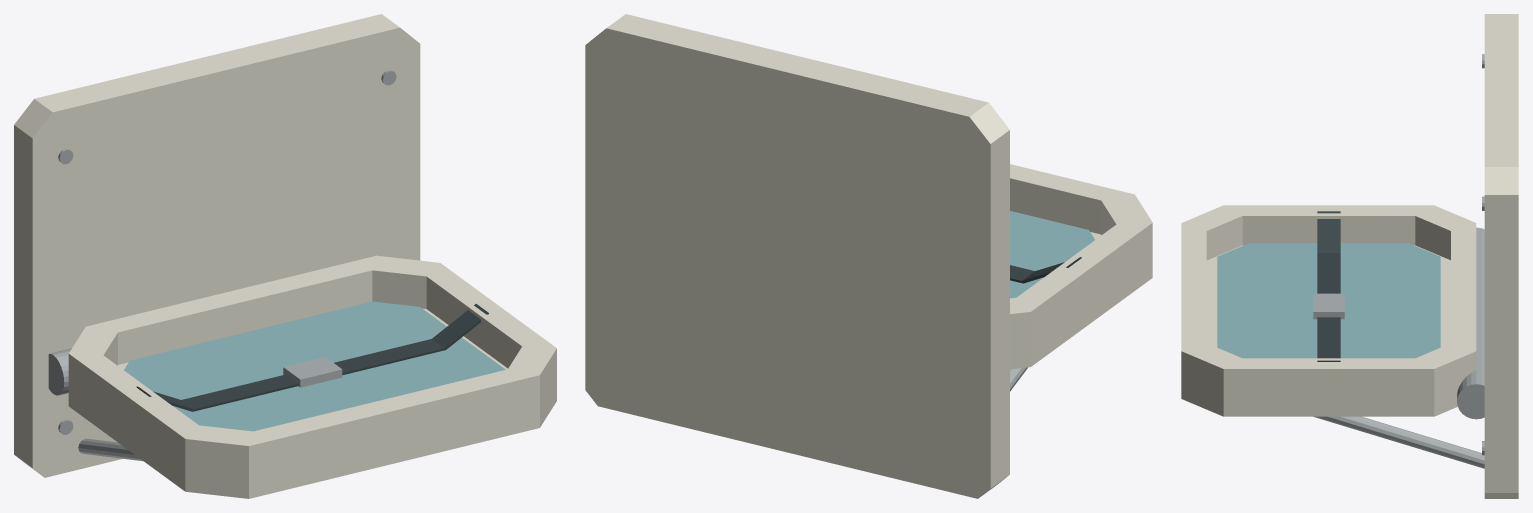
3 views of the same model, side by side, from view 1: azimuth 30°, elevation 25°; view 2: azimuth 150°, elevation 25°; view 3: azimuth 270°, elevation 25° (orthographic). The views are drawn at different scales.
Parts seen in each view (by area): view 1: WholeWallBacking, WholeShallowMoldedChangingPan, ContainedInsetPad, FixedUnoccupiedStrap1, FixedUnoccupiedStrap-1, FixedOpaqueBuckle, FixedTransverseHingeAppearance, FixedInclinedUndersideSupport-1; view 2: WholeWallBacking, WholeShallowMoldedChangingPan, ContainedInsetPad; view 3: WholeShallowMoldedChangingPan, ContainedInsetPad, WholeWallBacking, FixedTransverseHingeAppearance, FixedInclinedUndersideSupport1, FixedUnoccupiedStrap-1, FixedUnoccupiedStrap1, FixedOpaqueBuckle.
Boxes of the visible parts, x1,y1,x2,y2 form: WholeWallBacking: (14, 14, 420, 477); WholeShallowMoldedChangingPan: (68, 255, 556, 498); ContainedInsetPad: (124, 301, 505, 431); FixedUnoccupiedStrap1: (334, 304, 488, 375); FixedUnoccupiedStrap-1: (136, 374, 298, 411); FixedOpaqueBuckle: (283, 357, 342, 387); FixedTransverseHingeAppearance: (48, 348, 71, 395); FixedInclinedUndersideSupport-1: (78, 438, 143, 461); WholeWallBacking: (585, 14, 1009, 498); WholeShallowMoldedChangingPan: (1010, 164, 1152, 369); ContainedInsetPad: (1010, 211, 1094, 298); WholeShallowMoldedChangingPan: (1181, 205, 1476, 416); ContainedInsetPad: (1217, 243, 1440, 358); WholeWallBacking: (1484, 14, 1518, 498); FixedTransverseHingeAppearance: (1457, 227, 1484, 419); FixedInclinedUndersideSupport1: (1313, 416, 1484, 468); FixedUnoccupiedStrap-1: (1317, 211, 1340, 293); FixedUnoccupiedStrap1: (1317, 317, 1340, 361); FixedOpaqueBuckle: (1313, 293, 1344, 319).
Bounding box in the file's own units: 0.96 × 0.86 × 0.8.
